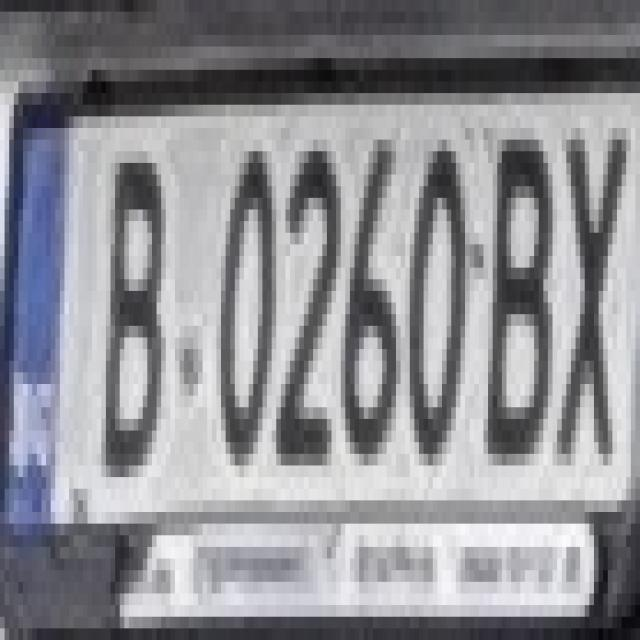0: (396, 104, 469, 466), (202, 116, 276, 454)
2: (268, 104, 340, 466)
6: (332, 93, 401, 466)
B: (474, 105, 557, 454), (88, 128, 170, 466)
X: (538, 93, 622, 466)
